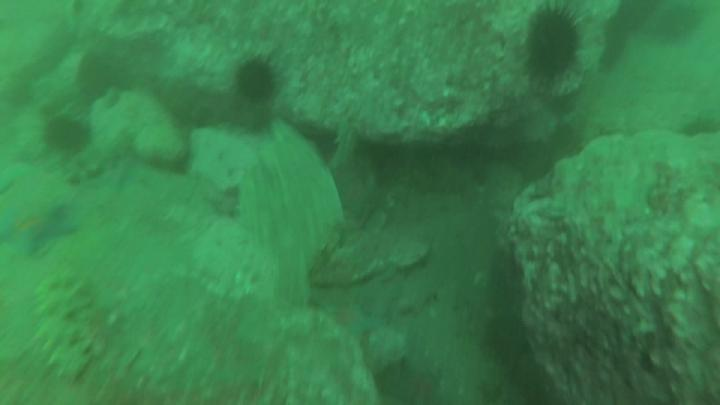echinus: (523, 2, 583, 93), (371, 360, 437, 405), (484, 313, 536, 369), (38, 111, 97, 159), (77, 52, 132, 100), (234, 52, 278, 111), (674, 114, 720, 137)
holothurian: (28, 272, 101, 384), (60, 130, 137, 186)
starfish: (1, 200, 78, 261), (315, 296, 390, 346)
